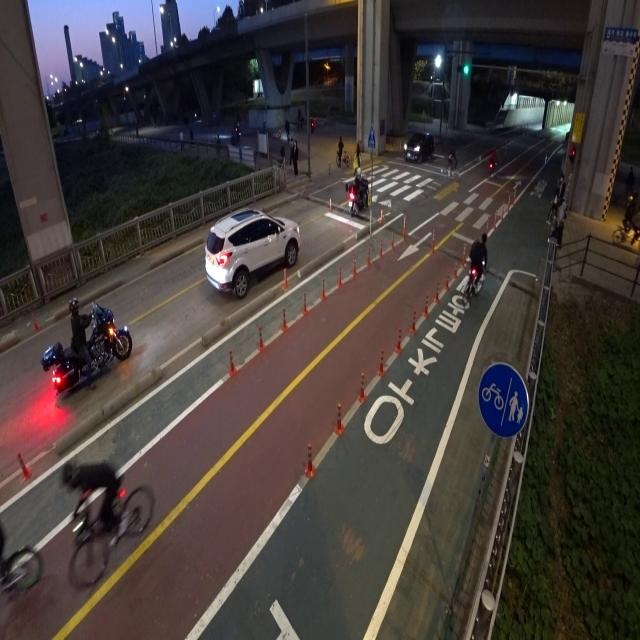Car: (202, 198, 304, 315), (401, 124, 439, 168)
Motorcycle: (43, 299, 132, 396), (462, 230, 489, 300), (343, 169, 372, 216)
